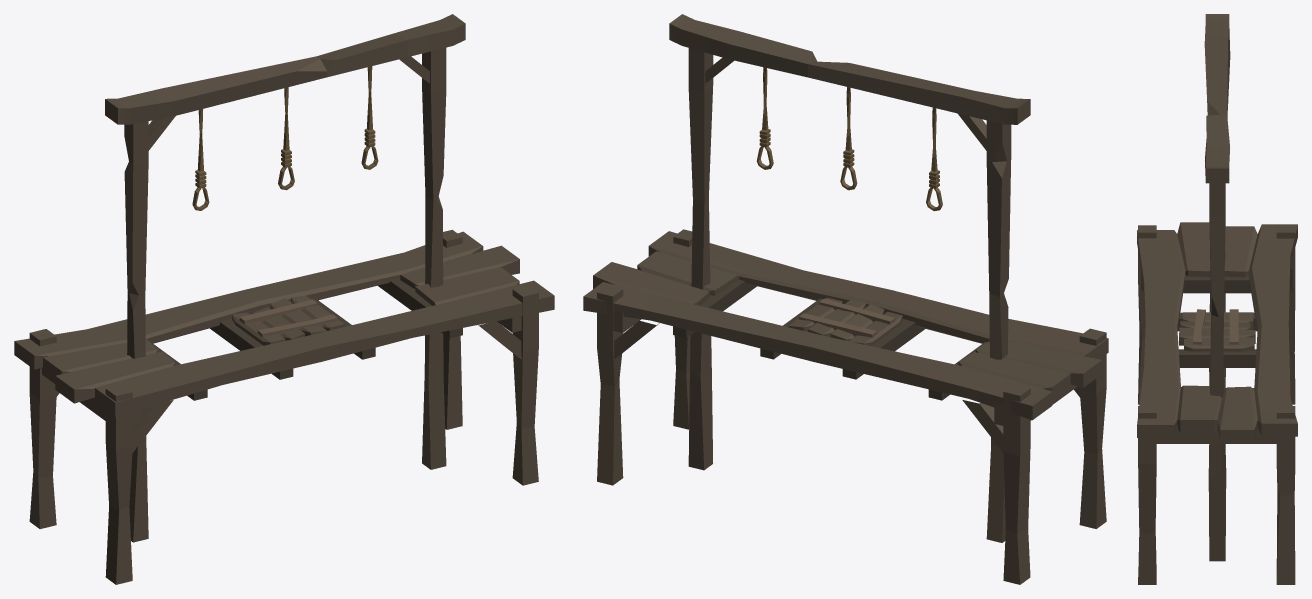
The model's file is SM_Prop_Gallows_Trapdoor_02.glb.
The picture shows the model from 3 angles, left to right: view 1: azimuth 30°, elevation 25°; view 2: azimuth 150°, elevation 25°; view 3: azimuth 270°, elevation 25°; orthographic projection. The views are drawn at different scales.
Parts seen in each view (by area): view 1: SM_Prop_Gallows_Trapdoor_02; view 2: SM_Prop_Gallows_Trapdoor_02; view 3: SM_Prop_Gallows_Trapdoor_02.
Part boxes in pixels (box(x1,y1,x2,y2)): SM_Prop_Gallows_Trapdoor_02: box(14, 14, 554, 584); SM_Prop_Gallows_Trapdoor_02: box(583, 14, 1108, 584); SM_Prop_Gallows_Trapdoor_02: box(1137, 14, 1297, 584).
Bounding box in the file's own units: 0.0604 × 0.0543 × 0.0198.
